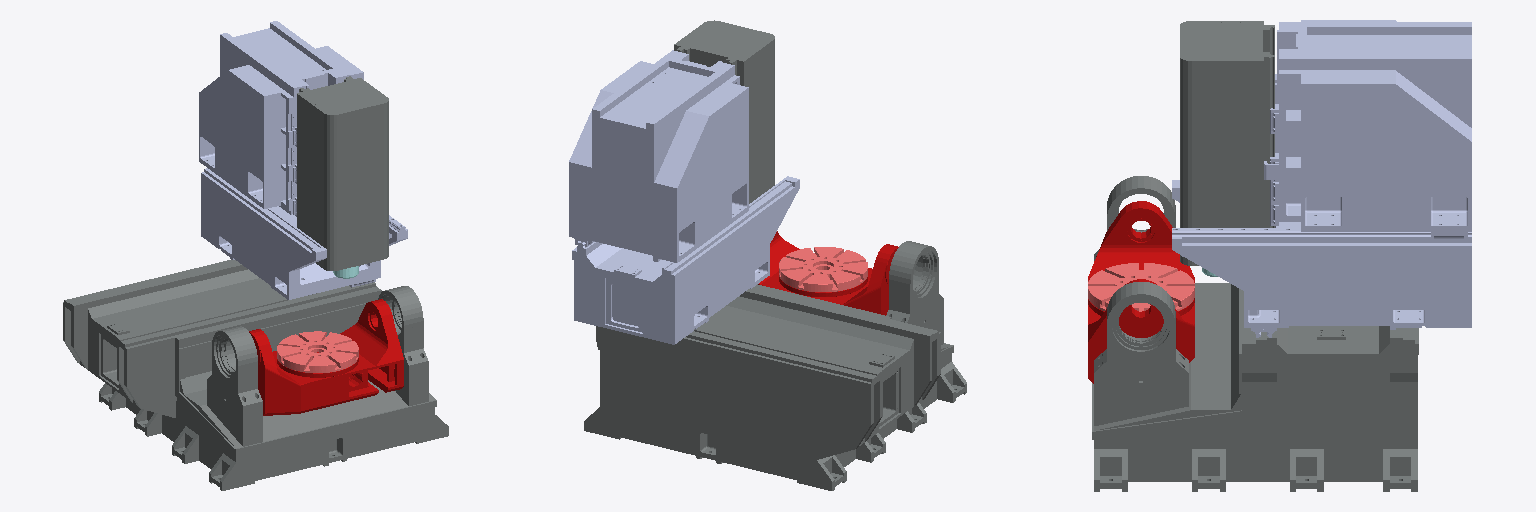
robot.urdf — c501-simple.SLDASM:
<?xml version="1.0" encoding="utf-8"?>
<!-- This URDF was automatically created by SolidWorks to URDF Exporter! Originally created by Stephen Brawner (brawner@gmail.com) 
     Commit Version: 1.6.0-4-g7f85cfe  Build Version: 1.6.7995.38578
     For more information, please see http://wiki.ros.org/sw_urdf_exporter -->
<robot
  name="c501-simple.SLDASM">
  <link
    name="base_link">
    <inertial>
      <origin
        xyz="-0.0755864156102248 0.72275973739925 0.411798224538449"
        rpy="0 0 0" />
      <mass
        value="5581.94322669293" />
      <inertia
        ixx="1007.71174804637"
        ixy="64.5731862619963"
        ixz="42.2172766710896"
        iyy="1449.67672027087"
        iyz="-150.058719904986"
        izz="2019.82599890026" />
    </inertial>
    <visual>
      <origin
        xyz="0 0 0"
        rpy="0 0 0" />
      <geometry>
        <mesh
          filename="package://c501-simple.SLDASM/meshes/base_link.STL" />
      </geometry>
      <material
        name="">
        <color
          rgba="0.529411764705882 0.549019607843137 0.549019607843137 1" />
      </material>
    </visual>
    <collision>
      <origin
        xyz="0 0 0"
        rpy="0 0 0" />
      <geometry>
        <mesh
          filename="package://c501-simple.SLDASM/processed-geoms/base_link_vhacd.obj" />
      </geometry>
    </collision>
  </link>
  <link
    name="Link_A">
    <inertial>
      <origin
        xyz="-0.057956 0.0014408 -0.24232"
        rpy="0 0 0" />
      <mass
        value="534.57" />
      <inertia
        ixx="16.188"
        ixy="-0.024997"
        ixz="-1.1589"
        iyy="53.758"
        iyz="0.033222"
        izz="58.111" />
    </inertial>
    <visual>
      <origin
        xyz="0 0 0"
        rpy="0 0 0" />
      <geometry>
        <mesh
          filename="package://c501-simple.SLDASM/meshes/Link_A.STL" />
      </geometry>
      <material
        name="A">
        <color
          rgba="0.8 0.1 0.1 0.9" />
      </material>
    </visual>
    <collision>
      <origin
        xyz="0 0 0"
        rpy="0 0 0" />
      <geometry>
        <mesh
          filename="package://c501-simple.SLDASM/processed-geoms/Link_A_vhacd.obj" />
      </geometry>
    </collision>
  </link>
  <joint
    name="joint_A"
    type="revolute">
    <origin
      xyz="0 0 0.785"
      rpy="0 0 0" />
    <parent
      link="base_link" />
    <child
      link="Link_A" />
    <axis
      xyz="-1 0 0" />
    <limit
      lower="-1.57"
      upper="1.57"
      effort="100"
      velocity="1" />
  </joint>
  <link concave="yes"
    name="Link_C">
    <inertial>
      <origin
        xyz="1.4861E-16 -5.5511E-16 -0.024913"
        rpy="0 0 0" />
      <mass
        value="7.8575" />
      <inertia
        ixx="0.13217"
        ixy="1.1165E-16"
        ixz="-1.7773E-17"
        iyy="0.13217"
        iyz="9.6035E-17"
        izz="0.26107" />
    </inertial>
    <visual>
      <origin
        xyz="0 0 0"
        rpy="0 0 0" />
      <geometry>
        <mesh
          filename="package://c501-simple.SLDASM/meshes/Link_C.STL" />
      </geometry>
      <material
        name="C">
        <color
          rgba="1 0.50196 0.50196 1" />
      </material>
    </visual>
    <collision>
      <origin
        xyz="0 0 0"
        rpy="0 0 0" />
      <geometry>
        <mesh
          filename="package://c501-simple.SLDASM/processed-geoms/Link_C_simple_vhacd.obj" />
      </geometry>
    </collision>
  </link>
  <joint
    name="joint_C"
    type="revolute">
    <origin
      xyz="0 0 -0.0995"
      rpy="0 0 0" />
    <parent
      link="Link_A" />
    <child
      link="Link_C" />
    <axis
      xyz="0 0 -1" />
    <limit
      lower="-6.28"
      upper="6.28"
      effort="100"
      velocity="1" />
  </joint>
  <link
    name="Link_X">
    <inertial>
      <origin
        xyz="-0.320981067687767 0.555366618150545 0.201056942827223"
        rpy="0 0 0" />
      <mass
        value="241.368906221286" />
      <inertia
        ixx="25.1071275781226"
        ixy="0.0435525256094283"
        ixz="-0.0514307925165566"
        iyy="12.7148541366661"
        iyz="0.244401346888919"
        izz="31.3483687592862" />
    </inertial>
    <visual>
      <origin
        xyz="0 0 0"
        rpy="0 0 0" />
      <geometry>
        <mesh
          filename="package://c501-simple.SLDASM/meshes/Link_X.STL" />
      </geometry>
      <material
        name="X">
        <color
          rgba="0.796078431372549 0.823529411764706 0.937254901960784 1" />
      </material>
    </visual>
    <collision>
      <origin
        xyz="0 0 0"
        rpy="0 0 0" />
      <geometry>
        <mesh
          filename="package://c501-simple.SLDASM/processed-geoms/Link_X_vhacd.obj" />
      </geometry>
    </collision>
  </link>
  <joint
    name="joint_X"
    type="prismatic">
    <origin
      xyz="0.72 0.4765 0.802"
      rpy="0 0 0" />
    <parent
      link="base_link" />
    <child
      link="Link_X" />
    <axis
      xyz="-1 0 0" />
    <limit
      lower="0"
      upper="1.12"
      effort="100"
      velocity="1" />
  </joint>
  <link
    name="Link_Y">
    <inertial>
      <origin
        xyz="-0.35028 -0.42566 0.39309"
        rpy="0 0 0" />
      <mass
        value="2896.5" />
      <inertia
        ixx="298.54"
        ixy="0.00013327"
        ixz="-0.44042"
        iyy="246.65"
        iyz="9.9669"
        izz="266.43" />
    </inertial>
    <visual>
      <origin
        xyz="0 0 0"
        rpy="0 0 0" />
      <geometry>
        <mesh
          filename="package://c501-simple.SLDASM/meshes/Link_Y.STL" />
      </geometry>
      <material
        name="Y">
        <color
          rgba="0.79216 0.81961 0.93333 1" />
      </material>
    </visual>
    <collision>
      <origin
        xyz="0 0 0"
        rpy="0 0 0" />
      <geometry>
        <mesh
          filename="package://c501-simple.SLDASM/processed-geoms/Link_Y_vhacd.obj" />
      </geometry>
    </collision>
  </link>
  <joint
    name="joint_Y"
    type="prismatic">
    <origin
      xyz="0.032 1.065 0.508"
      rpy="0 0 0" />
    <parent
      link="Link_X" />
    <child
      link="Link_Y" />
    <axis
      xyz="0 -1 0" />
    <limit
      lower="0"
      upper="0.6"
      effort="100"
      velocity="1" />
  </joint>
  <link
    name="Link_Z">
    <inertial>
      <origin
        xyz="-0.22499 -0.18935 -0.48748"
        rpy="0 0 0" />
      <mass
        value="874.5" />
      <inertia
        ixx="93.024"
        ixy="-0.00034869"
        ixz="-0.0013128"
        iyy="96.221"
        iyz="0.30154"
        izz="29.648" />
    </inertial>
    <visual>
      <origin
        xyz="0 0 0"
        rpy="0 0 0" />
      <geometry>
        <mesh
          filename="package://c501-simple.SLDASM/meshes/Link_Z.STL" />
      </geometry>
      <material
        name="Z">
        <color
          rgba="0.52941 0.54902 0.54902 1" />
      </material>
    </visual>
    <collision>
      <origin
        xyz="0 0 0"
        rpy="0 0 0" />
      <geometry>
        <mesh
          filename="package://c501-simple.SLDASM/processed-geoms/Link_Z_vhacd.obj" />
      </geometry>
    </collision>
  </link>
  <joint
    name="joint_Z"
    type="prismatic">
    <origin
      xyz="-0.12 -0.968 0.82"
      rpy="0 0 0" />
    <parent
      link="Link_Y" />
    <child
      link="Link_Z" />
    <axis
      xyz="0 0 -1" />
    <limit
      lower="-0.3"
      upper="0.15"
      effort="100"
      velocity="1" />
  </joint>
  <link
    name="Link_S">
    <inertial>
      <origin
        xyz="8.4863E-06 1.561E-05 0.22127"
        rpy="0 0 0" />
      <mass
        value="8.031" />
      <inertia
        ixx="0.13956"
        ixy="2.916E-06"
        ixz="-1.3306E-05"
        iyy="0.13956"
        iyz="-2.4475E-05"
        izz="0.023979" />
    </inertial>
    <visual>
      <origin
        xyz="0 0 0"
        rpy="0 0 0" />
      <geometry>
        <mesh
          filename="package://c501-simple.SLDASM/meshes/Link_S.STL" />
      </geometry>
      <material
        name="S">
        <color
          rgba="0.75294 1 1 1" />
      </material>
    </visual>
    <collision>
      <origin
        xyz="0 0 0"
        rpy="0 0 0" />
      <geometry>
        <mesh
          filename="package://c501-simple.SLDASM/processed-geoms/Link_S_vhacd.obj" />
      </geometry>
    </collision>
  </link>
  <joint
    name="joint_S"
    type="fixed">
    <origin
      xyz="-0.225 -0.215 -1.19"
      rpy="0 0 0" />
    <parent
      link="Link_Z" />
    <child
      link="Link_S" />
    <axis
      xyz="0 0 0" />
  </joint>
</robot>

--- What the picture shows (computed from the rendered views, not written in the file) ---
3 views of the same robot in one strip: view 1: azimuth 30°, elevation 25°; view 2: azimuth 150°, elevation 25°; view 3: azimuth 270°, elevation 25° (orthographic).
Robot: c501-simple.SLDASM — 7 links, 6 joints (2 revolute, 3 prismatic, 1 fixed); root link base_link; default pose: all joints at 0.
Visible links, largest first — view 1: base_link, Link_Y, Link_Z, Link_X, Link_A, Link_C; view 2: base_link, Link_Y, Link_X, Link_Z, Link_C, Link_A; view 3: base_link, Link_Y, Link_X, Link_Z, Link_A, Link_C.
Link boxes in pixels (x1,y1,x2,y2): base_link: (63,260,448,490); Link_Y: (199,21,363,216); Link_Z: (297,76,388,270); Link_X: (201,168,407,299); Link_A: (249,299,403,415); Link_C: (277,331,358,372); base_link: (584,241,966,490); Link_Y: (569,50,748,262); Link_X: (572,176,799,344); Link_Z: (674,20,774,203); Link_C: (779,247,867,291); Link_A: (758,231,898,315); base_link: (1092,176,1418,491); Link_Y: (1264,20,1471,238); Link_X: (1172,180,1471,337); Link_Z: (1180,21,1274,265); Link_A: (1088,201,1194,383); Link_C: (1088,263,1194,311).
Size in the robot's own frame: 1.85 by 1.79 by 2.13 metres.
Meshes: 7 distinct files referenced, 7 mesh visuals loaded (7 binary STL).
